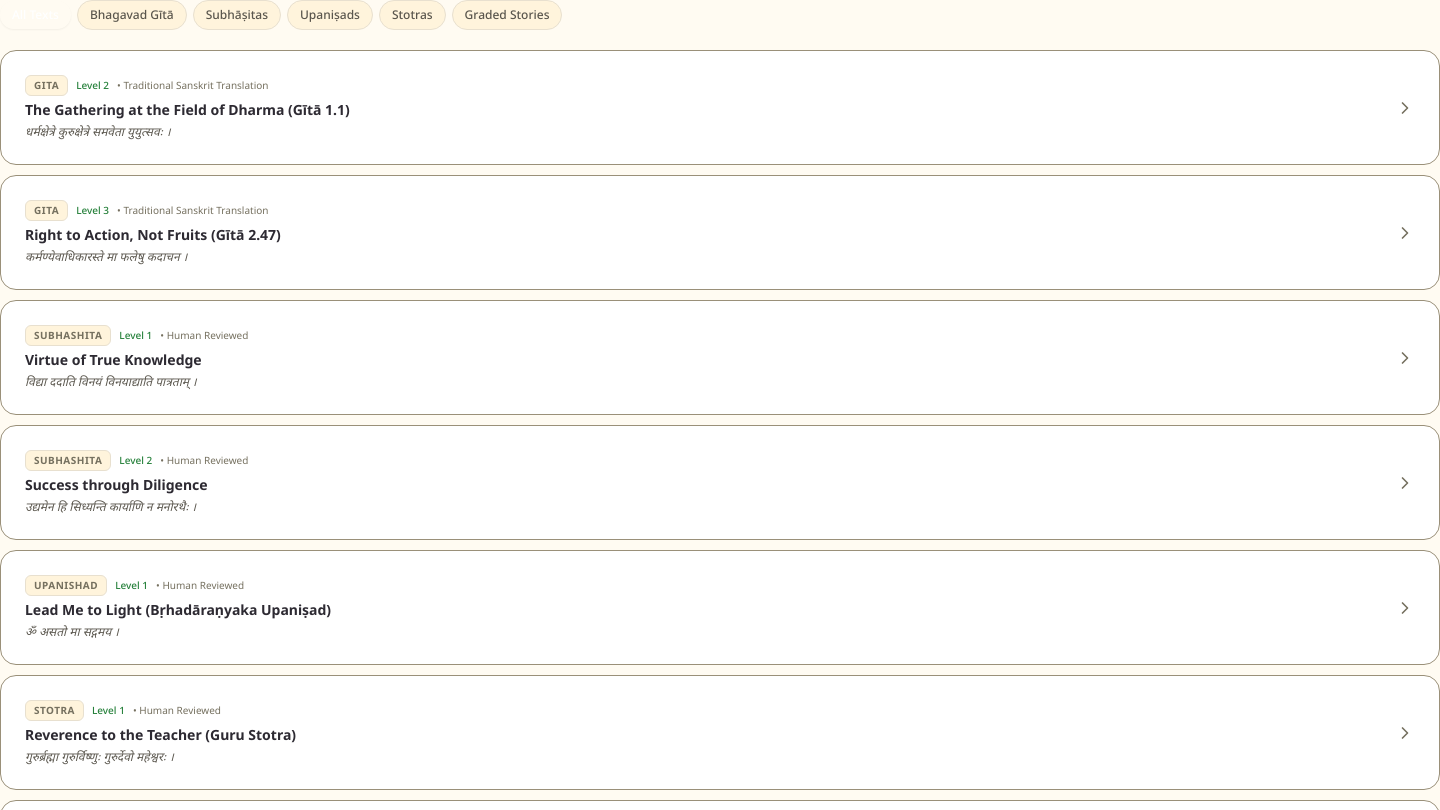
Scenario: TextLibrary Component › filters texts when clicking on a category pill
Click on Upaniṣad category
Click the button with test id "category-pill-upanishad" at [330, 15], box [287,0,373,30]
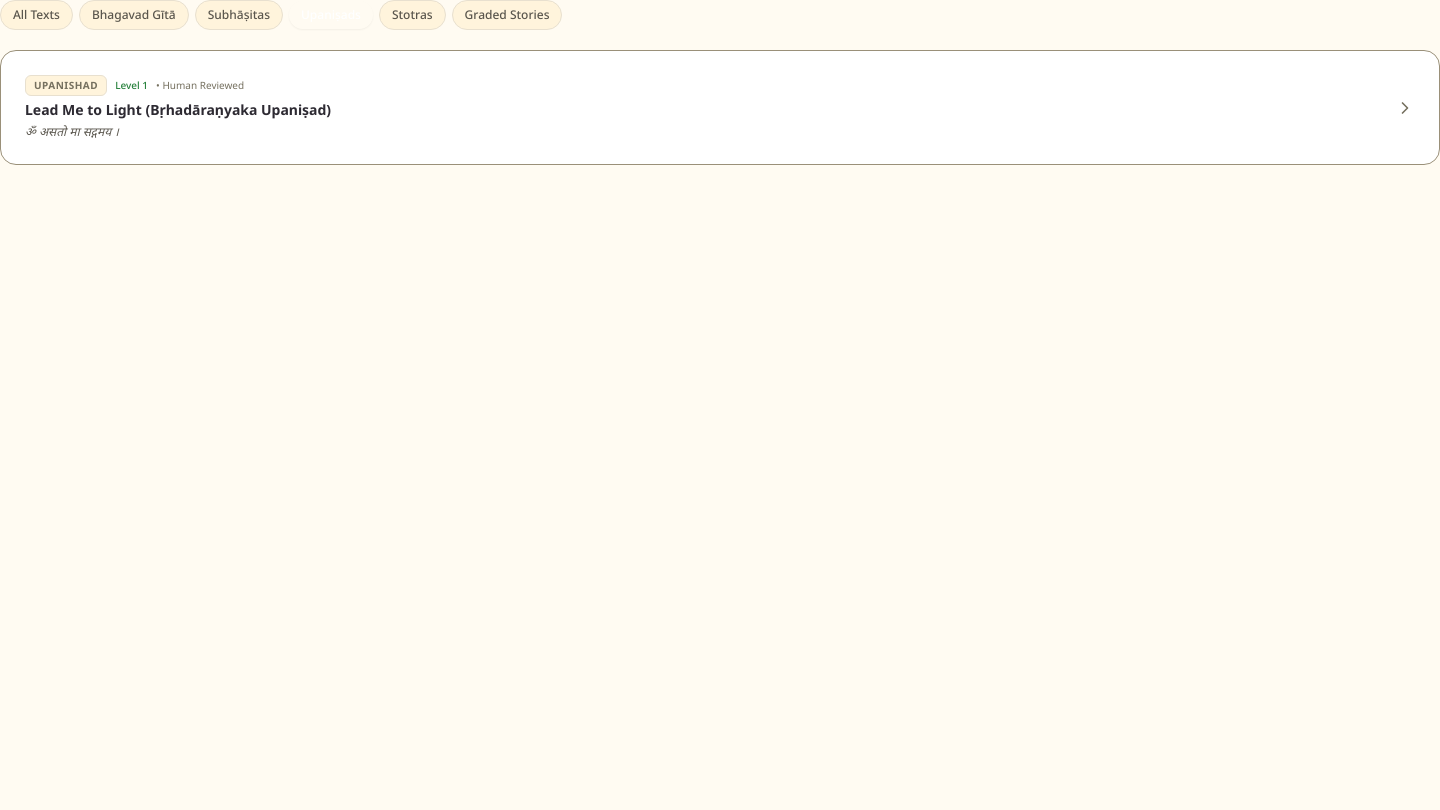
Expected: the element with test id "curated-text-card-upanishad-shanti" is shown, [0,50,1439,165]
Expected: the element with test id "curated-text-card-gita-1-1" is gone
